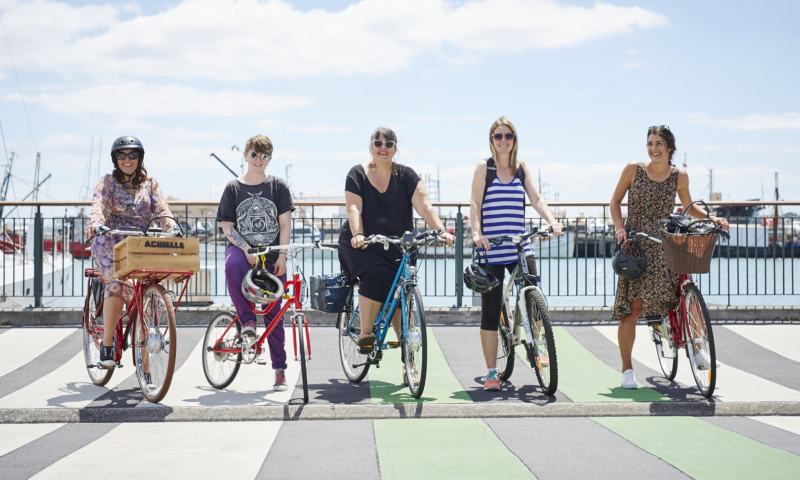with_helmet: (107, 135, 146, 164)
